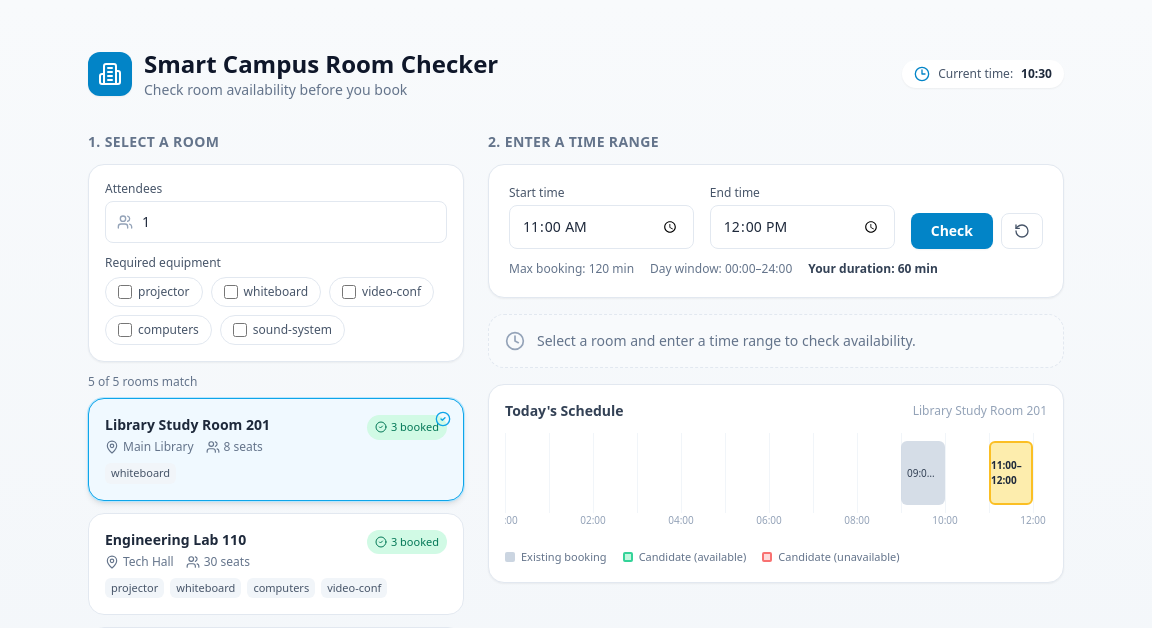
Test: App — filter → select → check → switch room › F5: filter that hides the selected room clears selection and result
# Default selection Library 201, 11:00–12:00 → Available
Click the button "Check" at (952, 231), box x1=911 y1=213 x2=993 y2=249
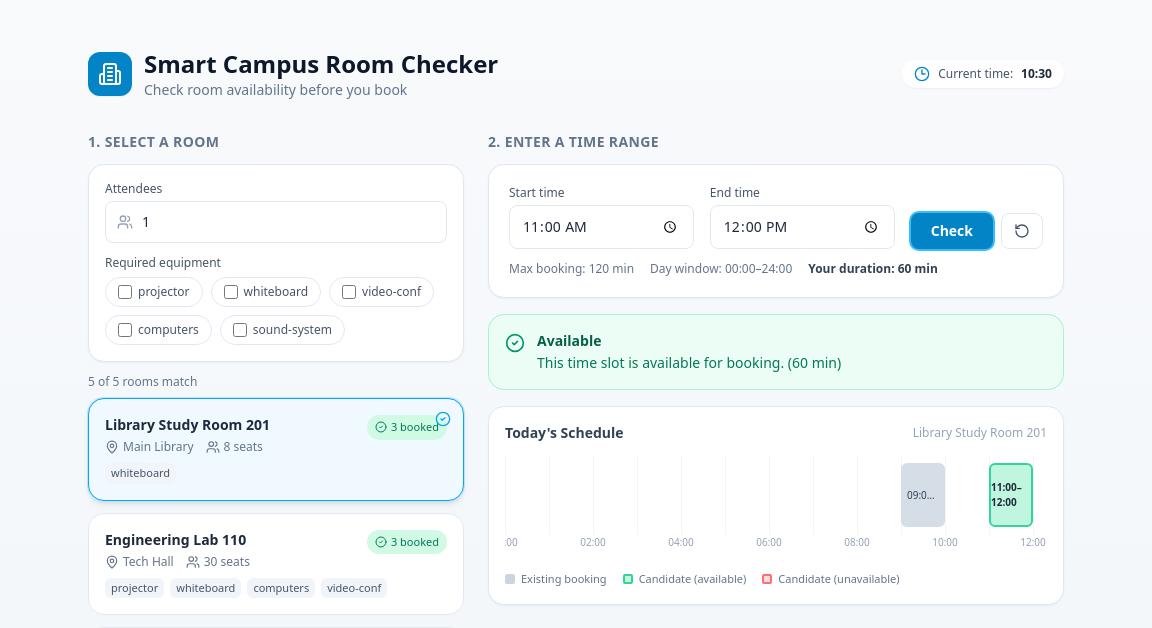
Result: the text "Available" is shown at x1=537 y1=331 x2=602 y2=350
# Library 201 has no projector → hidden, result cleared
Click the checkbox labelled "projector" at (125, 292), box x1=118 y1=285 x2=132 y2=299
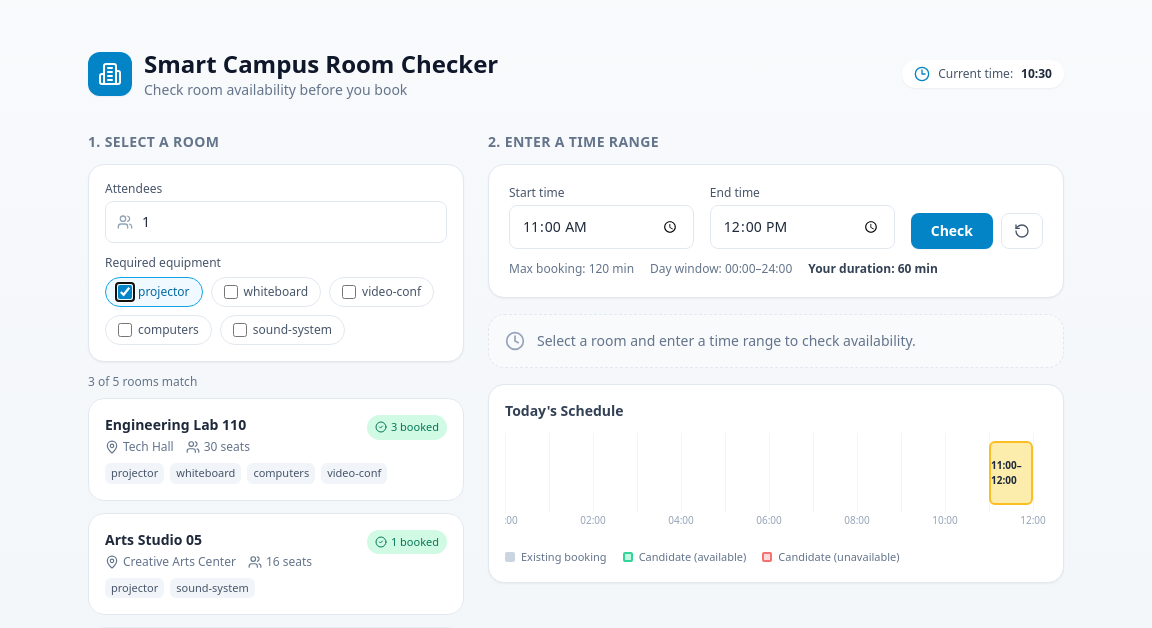
Result: the button "Library Study Room 201" is gone
Result: the text "Select a room and enter a time range to check availability." is shown at x1=537 y1=331 x2=916 y2=351
